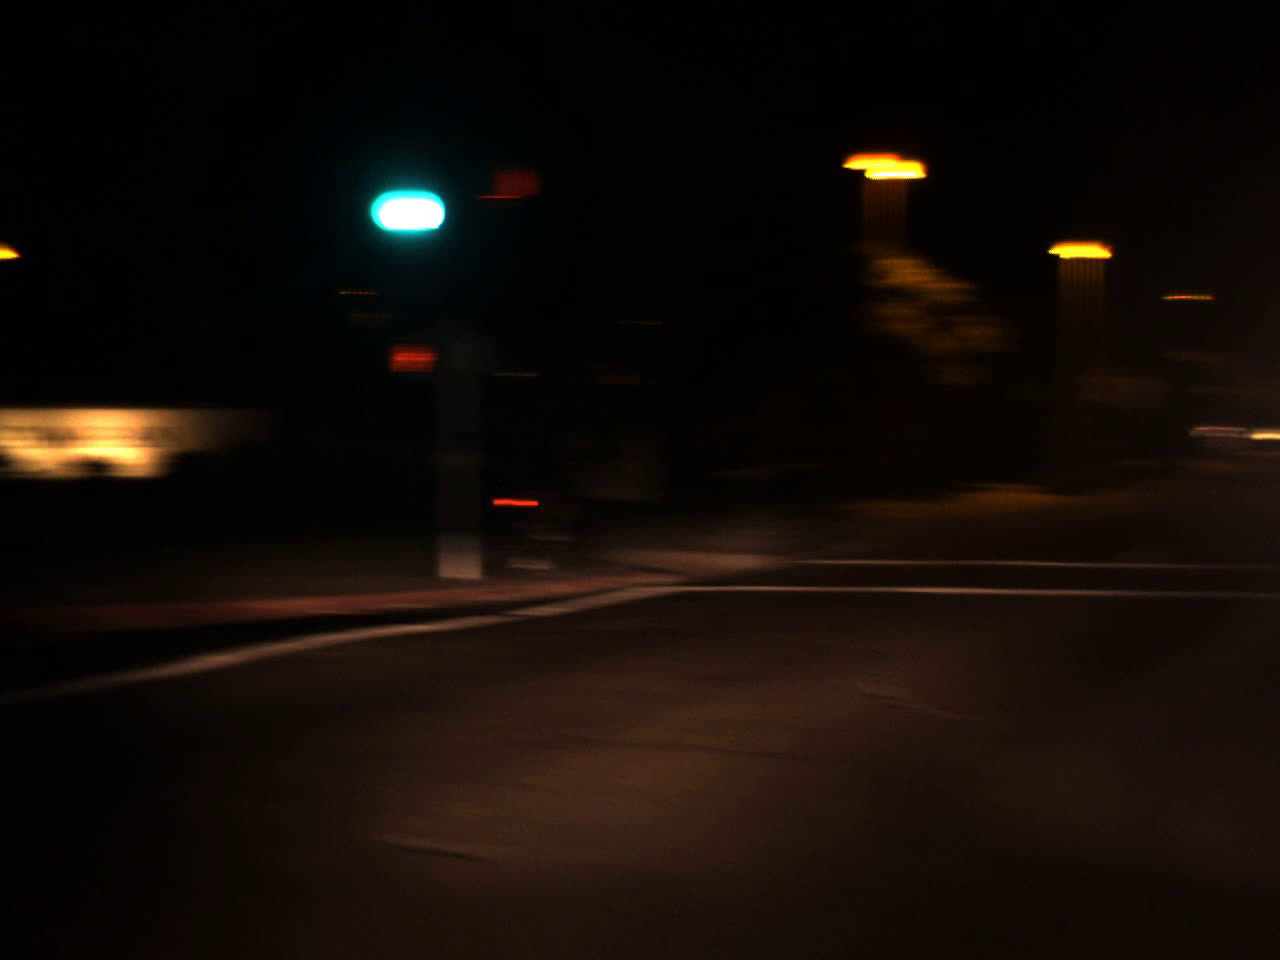go: (363, 130, 454, 247)
